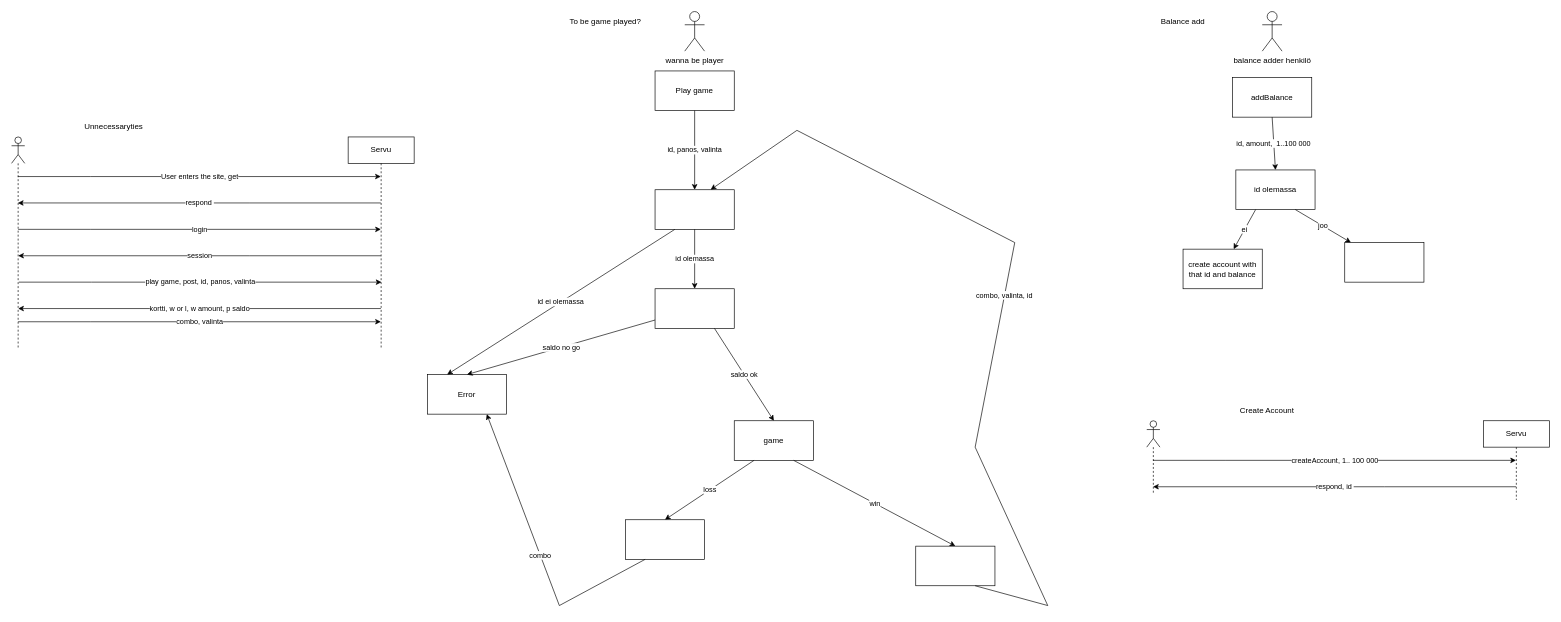
This 1561x622 diagram has some shape labels left out. The shapes that lost their labels are listed below. From the top down, each one's box as (x1, y1, x2, y2) in pixels, then its label:
(654, 189, 734, 229): Tili olemassa?
(1344, 242, 1424, 282): add balance
(654, 288, 734, 328): tili
(625, 519, 705, 559): saldo - panos
(915, 545, 995, 586): saldo + panos
